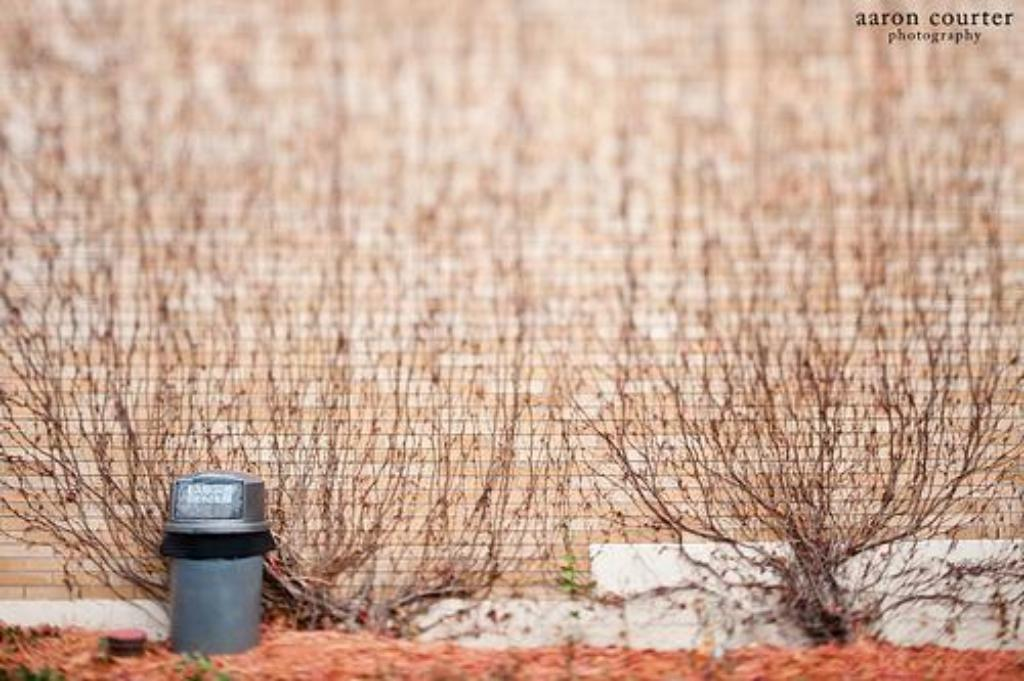dustbin: (158, 461, 282, 647)
